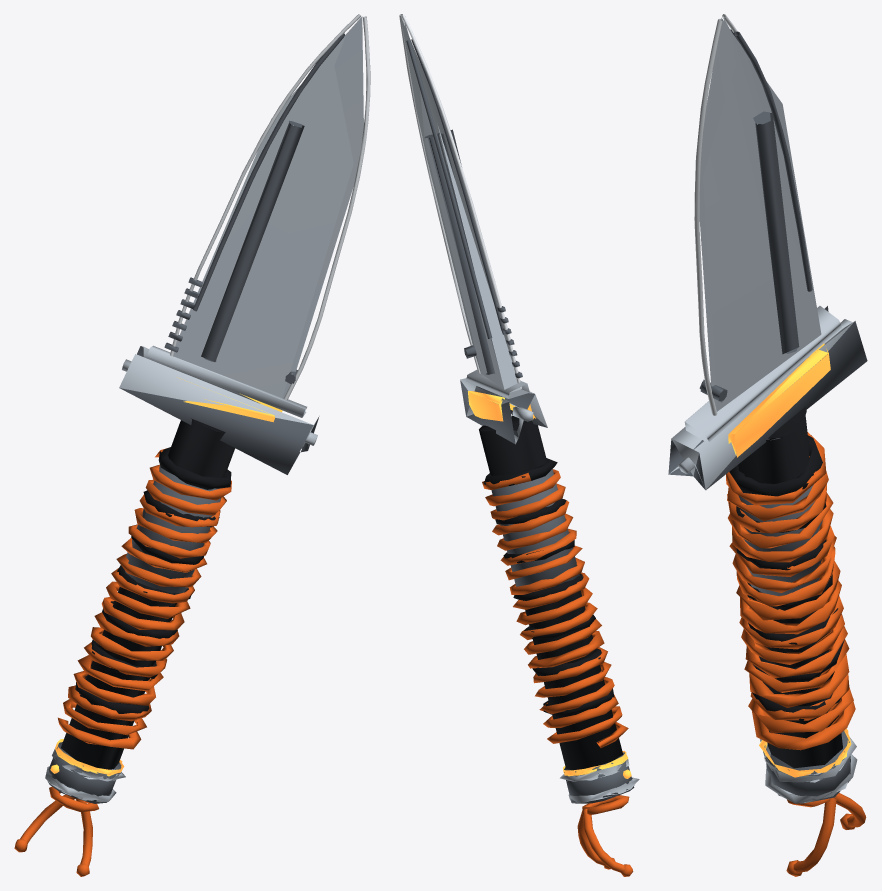
File: knife.glb
3 views of the same model, side by side, from view 1: azimuth 30°, elevation 25°; view 2: azimuth 150°, elevation 25°; view 3: azimuth 270°, elevation 25° (orthographic). The views are drawn at different scales.
Parts seen in each view (by area): view 1: hoja, cordon, guarda, mango, acanaladura_sup, mango_palma, guarda_frente, filo_pulido, franja_3, lomo_pulido, pomo, mango_nervio_1; view 2: cordon, mango, hoja, mango_palma, acanaladura_inf, guarda, franja_1, lomo_pulido, pomo, filo_pulido, franja_3, guarda_inlay_1 (+8 smaller); view 3: hoja, cordon, guarda, mango, acanaladura_inf, guarda_inlay_1, guarda_frente, filo_pulido, mango_palma, pomo, franja_1, mango_nervio_1 (+9 smaller).
Part boxes in pixels (bbox=[...]): hoja: bbox=[173, 15, 363, 398]; cordon: bbox=[58, 448, 231, 749]; guarda: bbox=[119, 346, 319, 474]; mango: bbox=[61, 418, 234, 769]; acanaladura_sup: bbox=[201, 121, 304, 361]; mango_palma: bbox=[125, 465, 221, 593]; guarda_frente: bbox=[146, 345, 306, 417]; filo_pulido: bbox=[283, 16, 370, 400]; franja_3: bbox=[193, 35, 344, 311]; lomo_pulido: bbox=[170, 14, 360, 356]; pomo: bbox=[47, 742, 121, 803]; mango_nervio_1: bbox=[158, 447, 231, 489]; cordon: bbox=[482, 469, 628, 747]; mango: bbox=[479, 416, 623, 770]; hoja: bbox=[401, 17, 520, 392]; mango_palma: bbox=[491, 469, 579, 586]; acanaladura_inf: bbox=[424, 133, 499, 374]; guarda: bbox=[460, 378, 547, 444]; franja_1: bbox=[406, 40, 492, 338]; lomo_pulido: bbox=[401, 14, 521, 388]; pomo: bbox=[564, 752, 634, 803]; filo_pulido: bbox=[399, 14, 480, 373]; franja_3: bbox=[411, 39, 504, 334]; guarda_inlay_1: bbox=[468, 391, 504, 421]; hoja: bbox=[699, 17, 821, 411]; cordon: bbox=[726, 432, 855, 750]; guarda: bbox=[668, 306, 867, 490]; mango: bbox=[738, 406, 842, 768]; acanaladura_inf: bbox=[753, 111, 799, 354]; guarda_inlay_1: bbox=[728, 343, 830, 457]; guarda_frente: bbox=[684, 306, 842, 442]; filo_pulido: bbox=[694, 19, 722, 415]; mango_palma: bbox=[738, 438, 822, 595]; pomo: bbox=[764, 731, 850, 803]; franja_1: bbox=[734, 31, 812, 291]; mango_nervio_1: bbox=[729, 435, 822, 496].
Bounding box in the file's own units: 0.2689 × 0.7082 × 0.1266.
